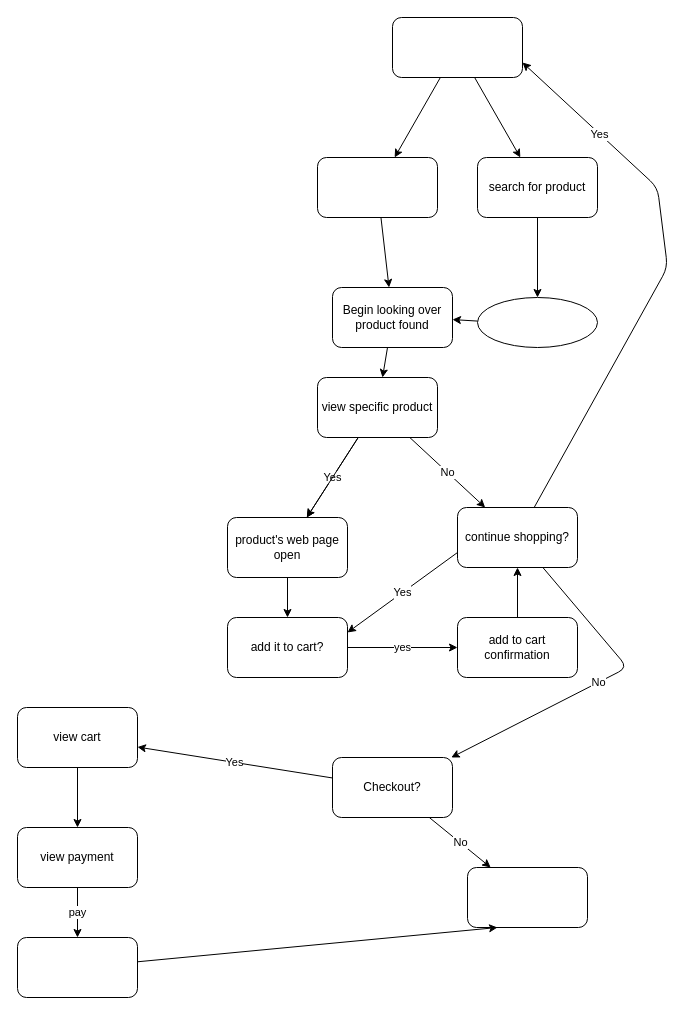
The diagram is 693 pixels wide and 1015 high, and some of its shapes have lost their labels. The shapes that lost their labels are listed below. From the top down, each one's box as (x1, y1, x2, y2) in pixels, then its label:
(392, 16, 522, 78): user enter website
(316, 156, 438, 218): explore for product on home page
(476, 296, 598, 348): provide input for search
(466, 866, 588, 928): Leave website
(16, 936, 138, 998): order confirmation page + email
